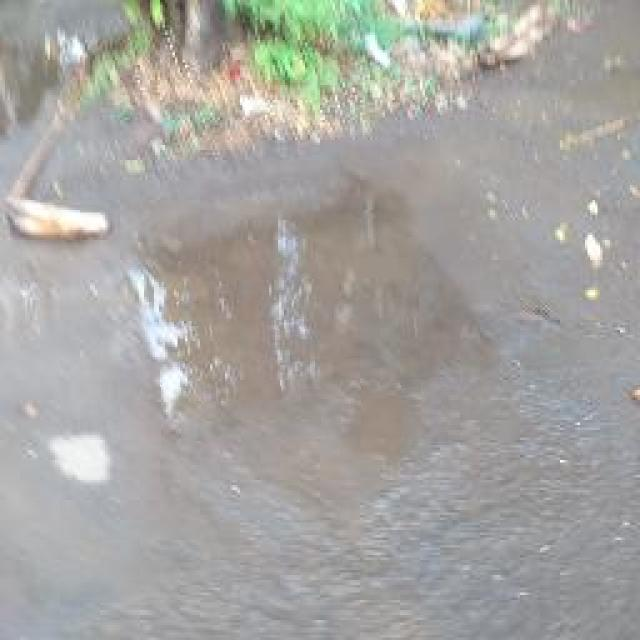puddle: (140, 212, 449, 448)
